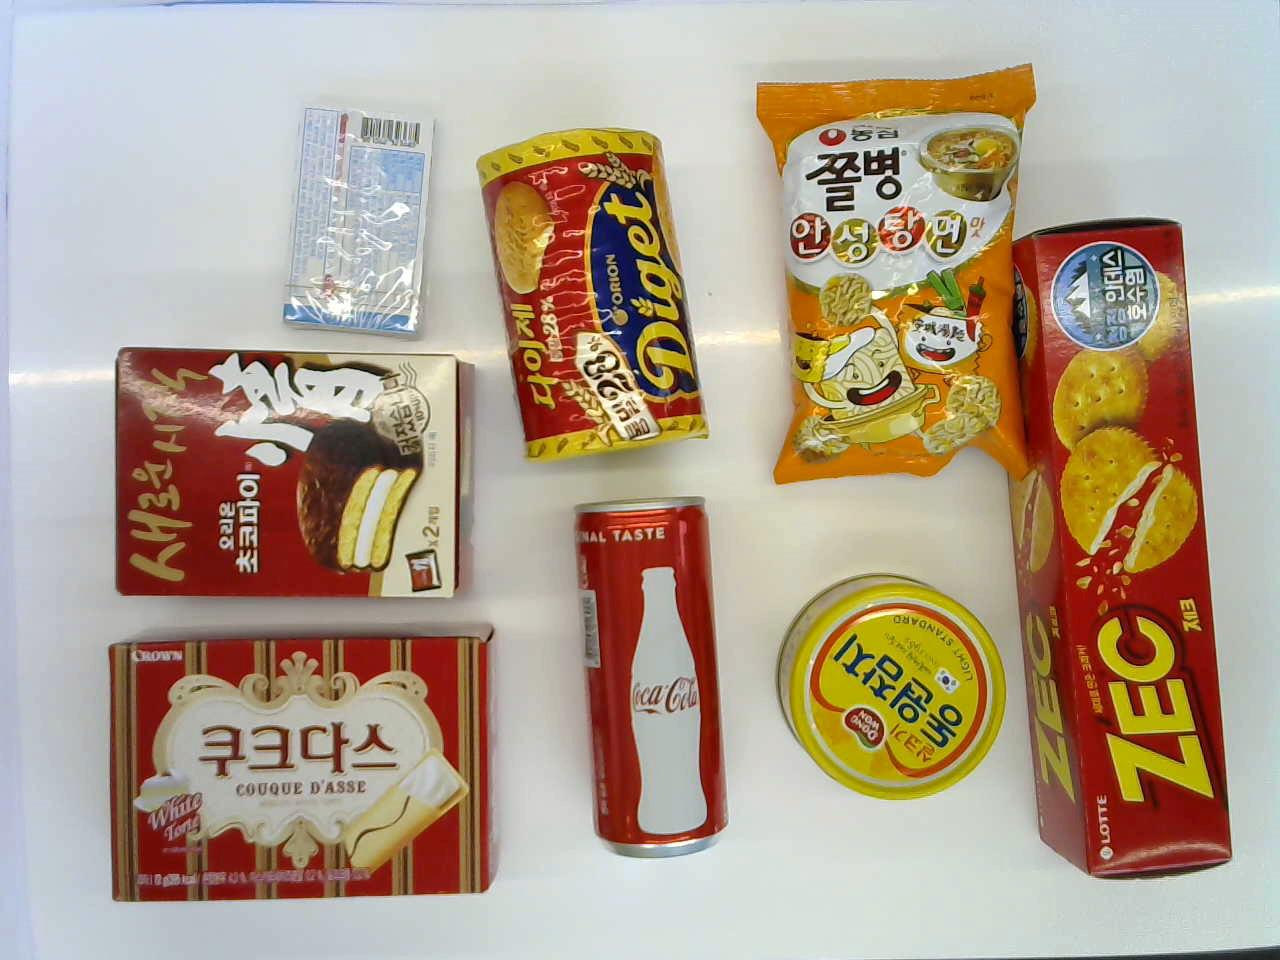ID_gum: (287, 96, 440, 337)
chocopie: (101, 334, 473, 611)
coke: (563, 487, 728, 863)
couque_white: (94, 619, 501, 908)
diget_ori: (471, 124, 712, 470)
jjolbyung_noodle: (736, 74, 1032, 481)
tuna: (778, 570, 1003, 812)
zec: (1014, 203, 1228, 888)
